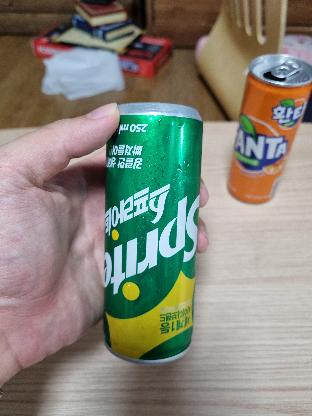Can: (88, 103, 214, 369)
